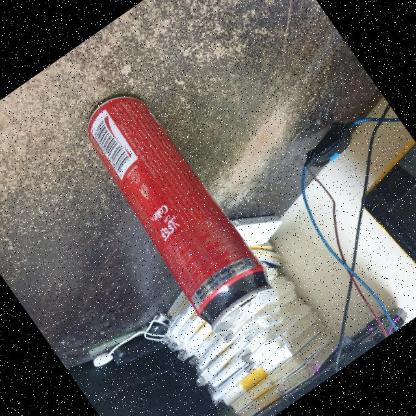Can: (55, 68, 293, 350)
